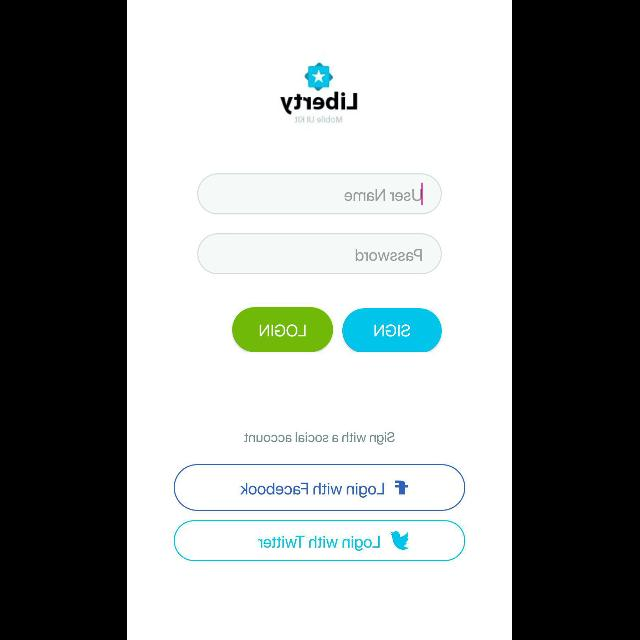image: (280, 63, 358, 124)
input: (198, 173, 442, 214), (198, 233, 442, 274)
text: (244, 432, 396, 446), (345, 189, 423, 201), (356, 249, 424, 261)
textbutton: (174, 464, 466, 511), (174, 520, 466, 562), (232, 307, 334, 353), (343, 308, 443, 352)
